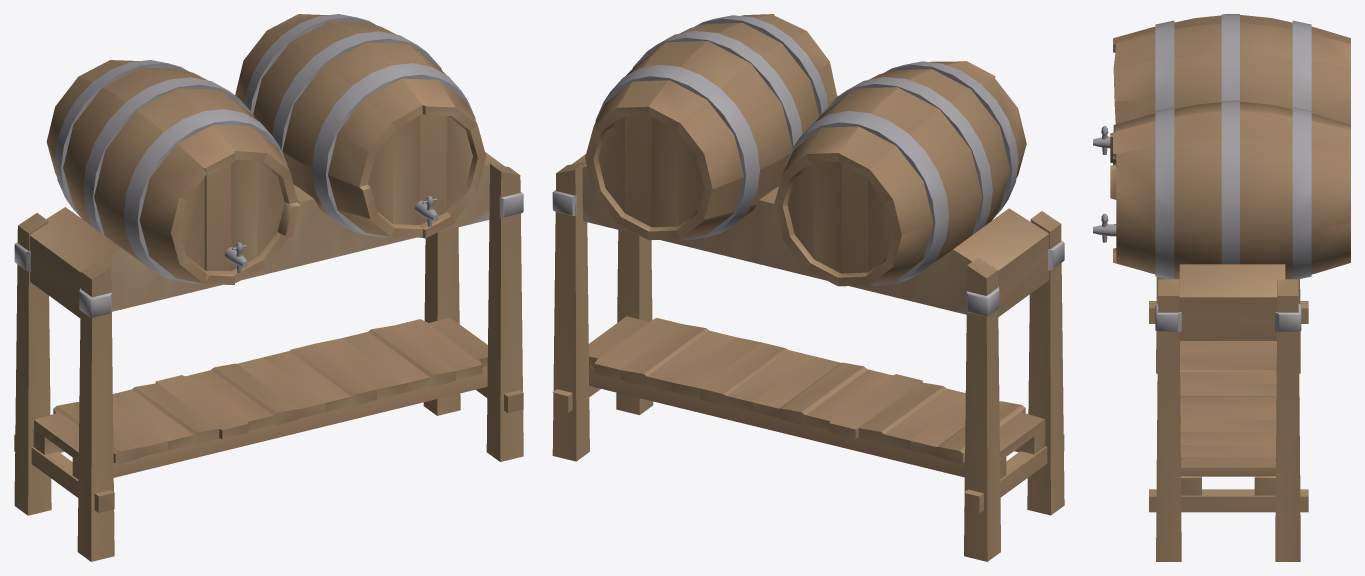
The model's file is Barrel_Holder.glb.
The picture shows the model from 3 angles, left to right: view 1: azimuth 30°, elevation 25°; view 2: azimuth 150°, elevation 25°; view 3: azimuth 270°, elevation 25°; orthographic projection. The views are drawn at different scales.
Visible parts, largest first — view 1: Barrel_Holder_344a53, Barrel_Holder_2c4b90; view 2: Barrel_Holder_344a53, Barrel_Holder_2c4b90; view 3: Barrel_Holder_344a53, Barrel_Holder_2c4b90.
Part boxes in pixels (x1=…): Barrel_Holder_344a53: x1=14, y1=14, x2=523, y2=561; Barrel_Holder_2c4b90: x1=14, y1=14, x2=523, y2=317; Barrel_Holder_344a53: x1=552, y1=14, x2=1064, y2=561; Barrel_Holder_2c4b90: x1=552, y1=15, x2=1064, y2=316; Barrel_Holder_344a53: x1=1104, y1=15, x2=1350, y2=561; Barrel_Holder_2c4b90: x1=1093, y1=14, x2=1311, y2=331.
Bounding box in the file's own units: 1.36 × 1.26 × 0.741.
